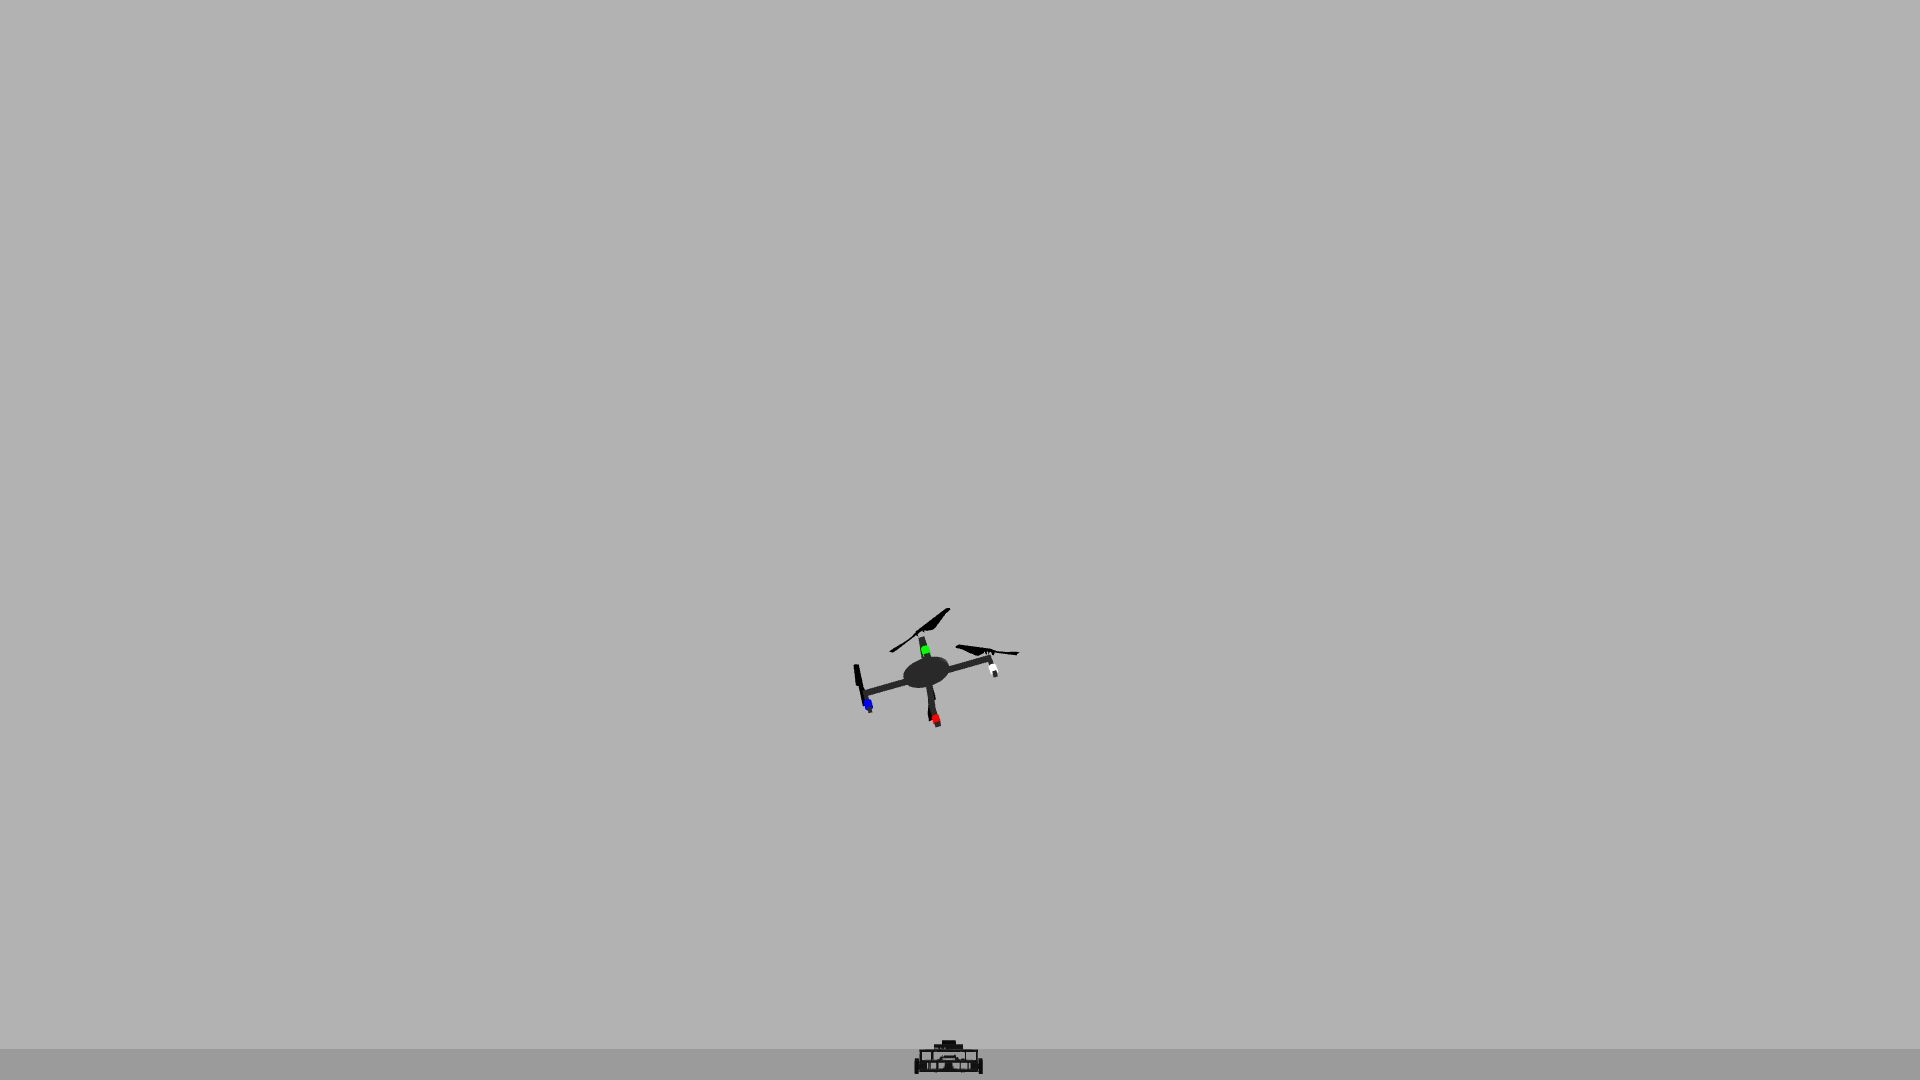drone: (840, 599, 1030, 738)
